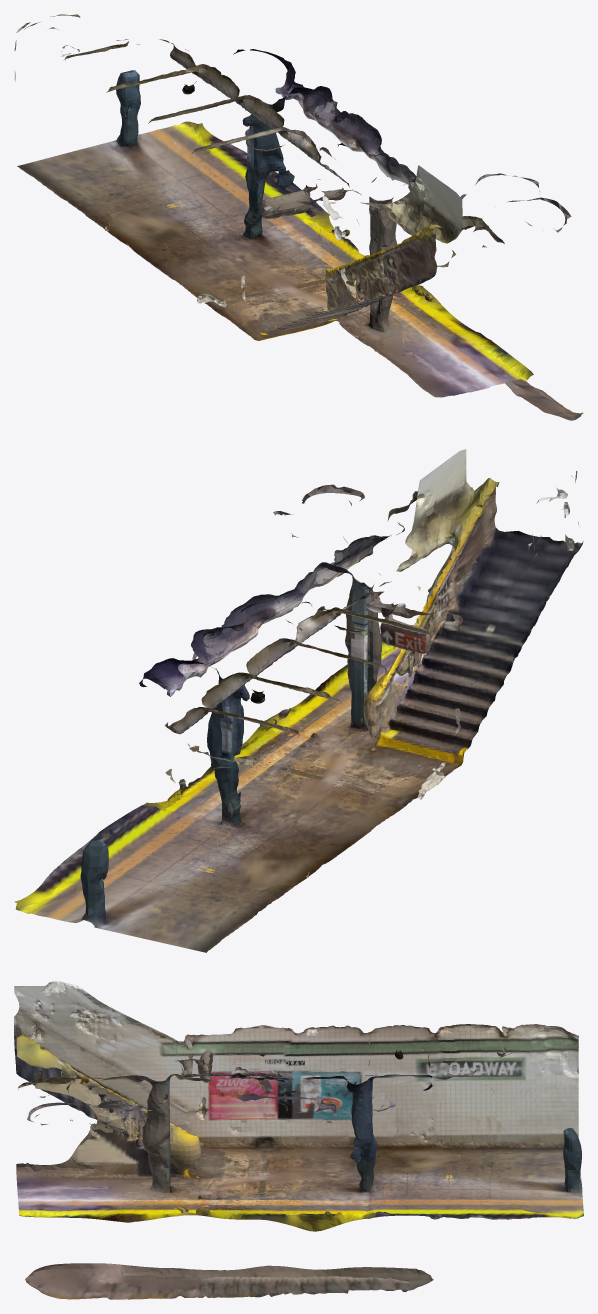
The model's file is NYC MTA subway Broadway G.glb.
The picture shows the model from 3 angles, top to bottom: view 1: azimuth 30°, elevation 25°; view 2: azimuth 150°, elevation 25°; view 3: azimuth 270°, elevation 25°; orthographic projection. The views are drawn at different scales.
Bounding box in the file's own units: 5.34 × 5.35 × 12.59.
1 material, 1 textured.
